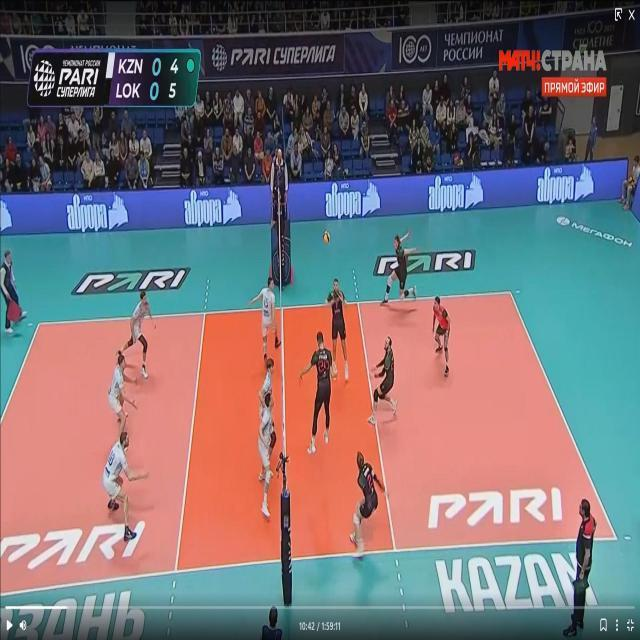volleyball: (322, 231, 330, 242)
